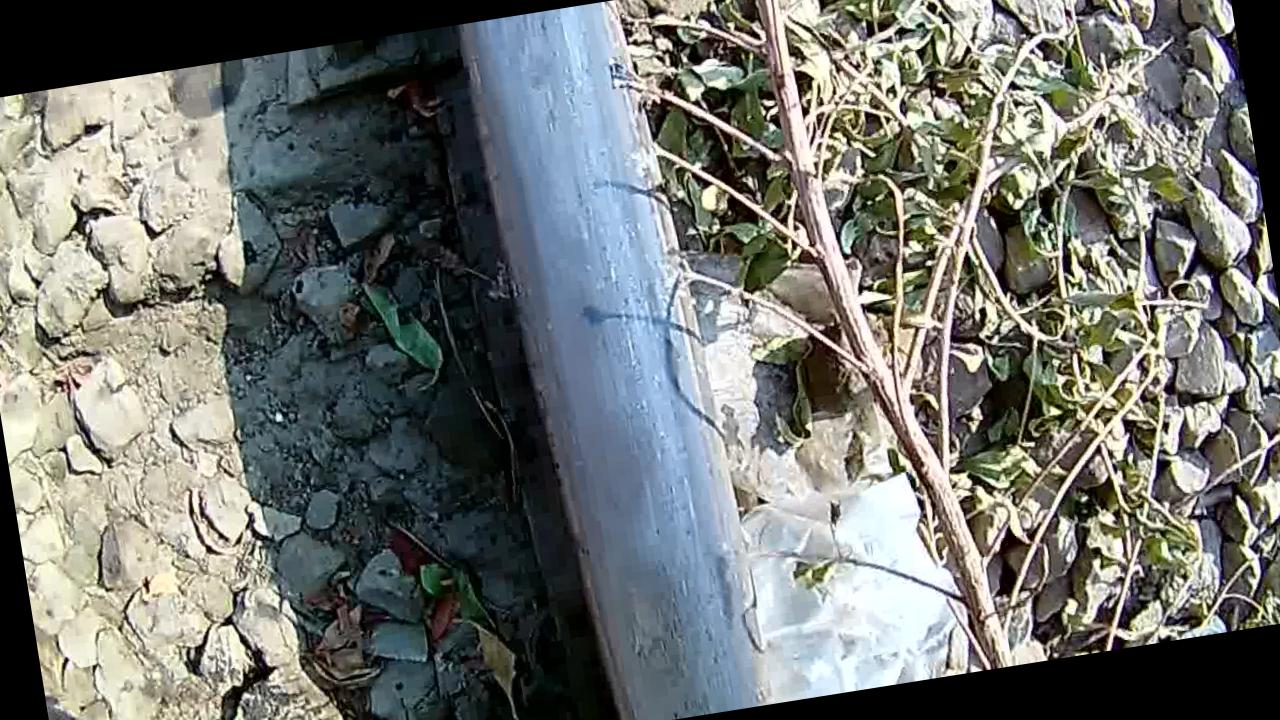bolt_missing: (462, 7, 737, 720)
